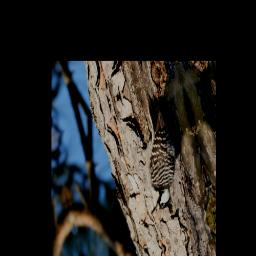Woodpecker: (123, 83, 187, 217)
